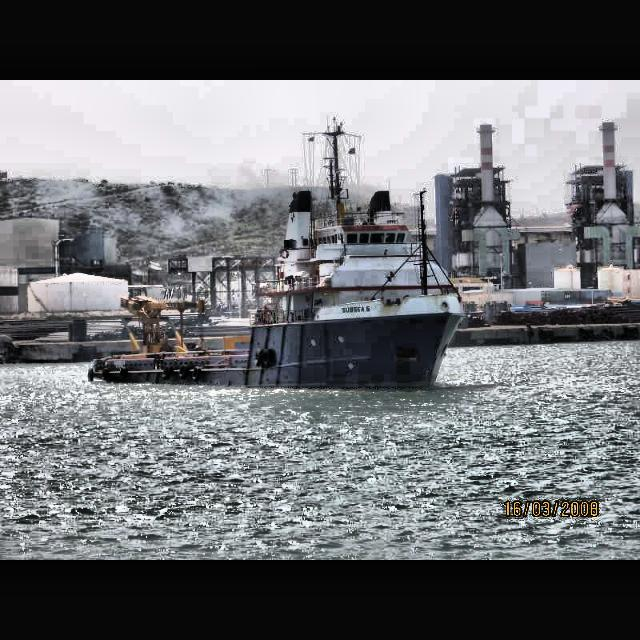anchor_handling_tug_supply: (85, 182, 468, 396)
